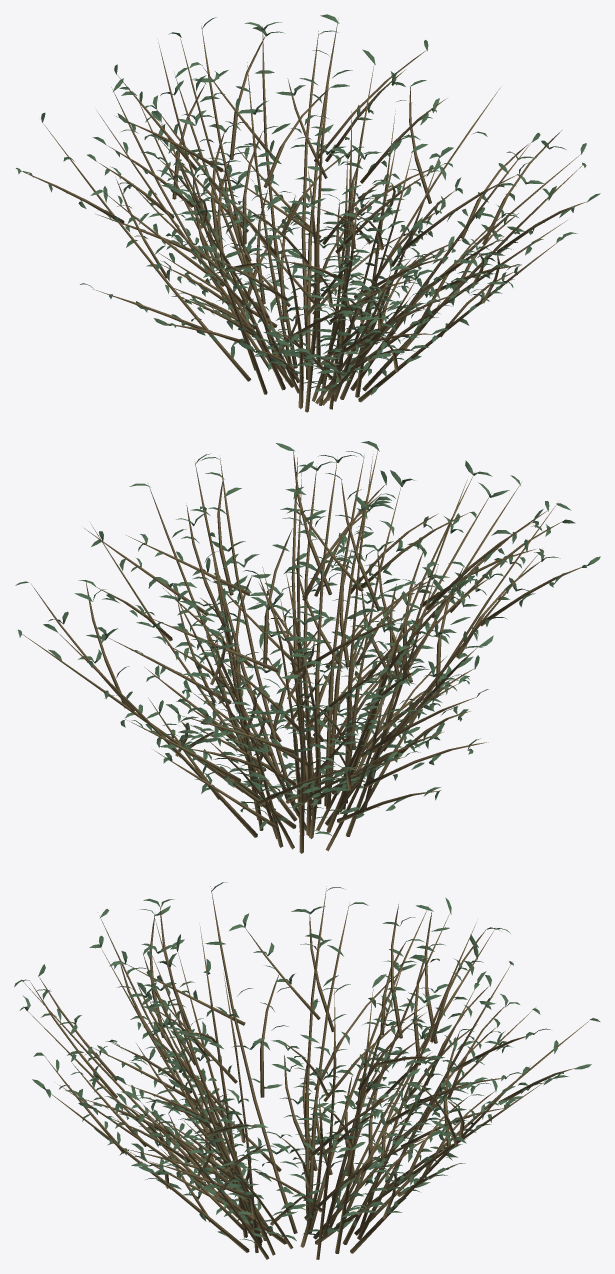
File: Romarin_Dense_LOD1.fbx
3 views of the same model, one above another, from view 1: azimuth 30°, elevation 25°; view 2: azimuth 150°, elevation 25°; view 3: azimuth 270°, elevation 25° (orthographic). The views are drawn at different scales.
Visible parts, largest first — view 1: Romarin_Dense_LOD1; view 2: Romarin_Dense_LOD1; view 3: Romarin_Dense_LOD1.
Part boxes in pixels (x1=…): Romarin_Dense_LOD1: x1=16, y1=14, x2=600, y2=412; Romarin_Dense_LOD1: x1=15, y1=441, x2=600, y2=853; Romarin_Dense_LOD1: x1=14, y1=882, x2=600, y2=1259.
Size of the model in its own units: 86.36 by 56.73 by 95.14.
